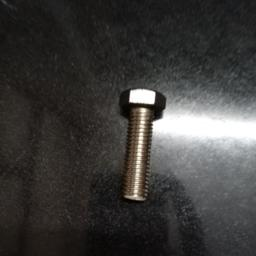screwtype2silver: (115, 86, 170, 206)
